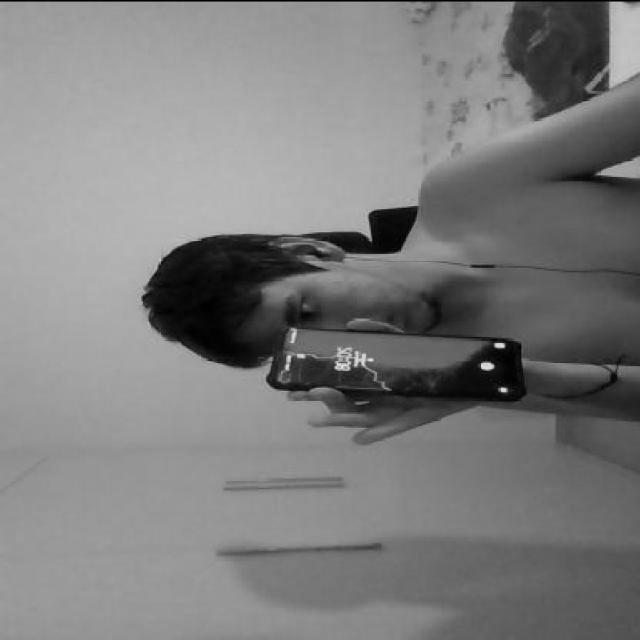fake: (270, 320, 528, 398)
